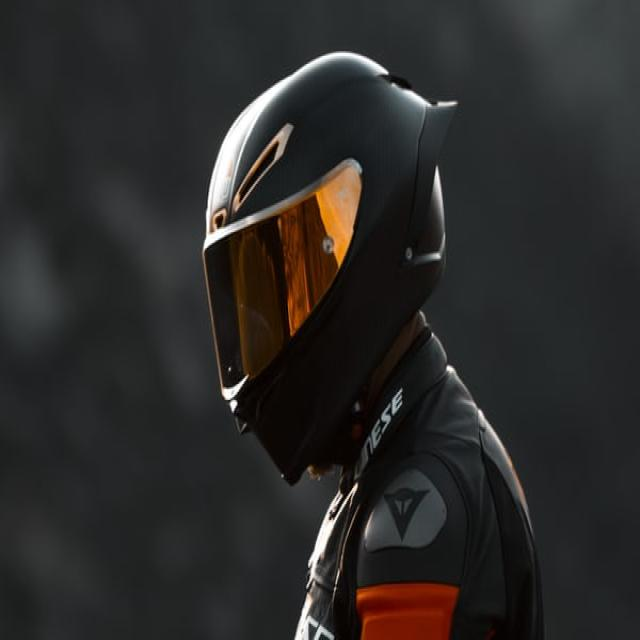Helmet: (197, 40, 469, 493)
